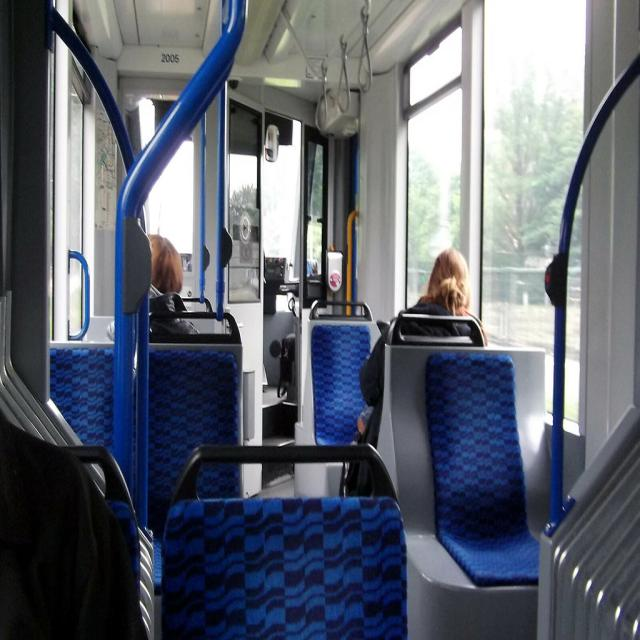empty-seat-frontal: (427, 347, 537, 586)
